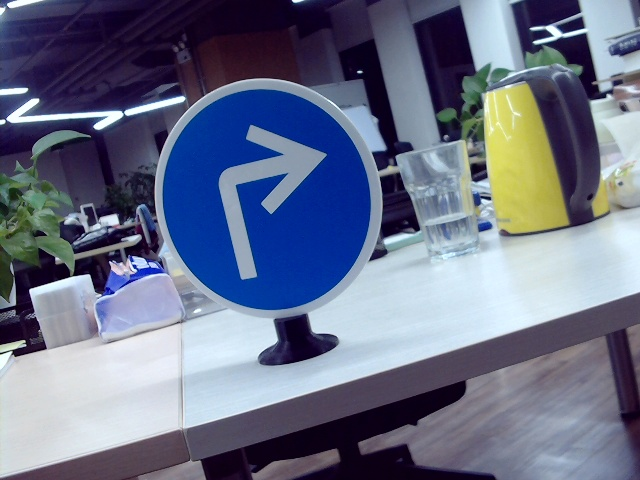turn_right: (207, 121, 324, 283)
